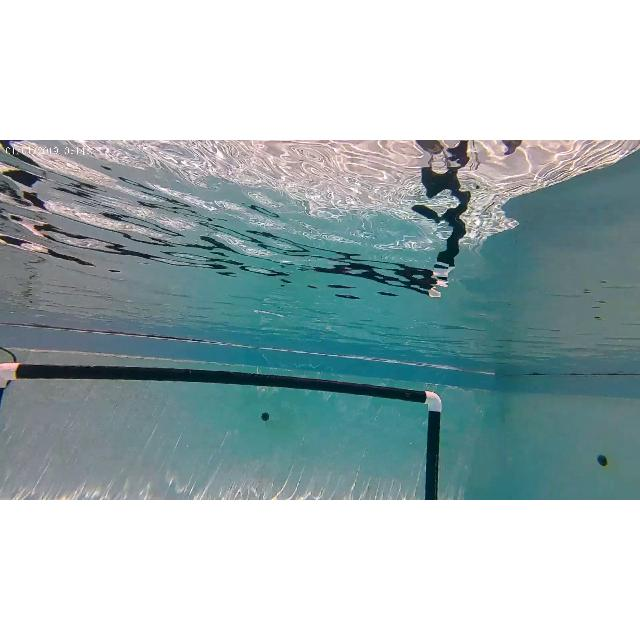prequal gate: (0, 362, 442, 500)
prequal gate leg l: (1, 359, 18, 398)
prequal gate leg r: (414, 386, 448, 500)
